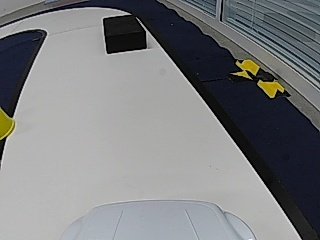block: (103, 15, 146, 53)
cone: (0, 106, 15, 138)
